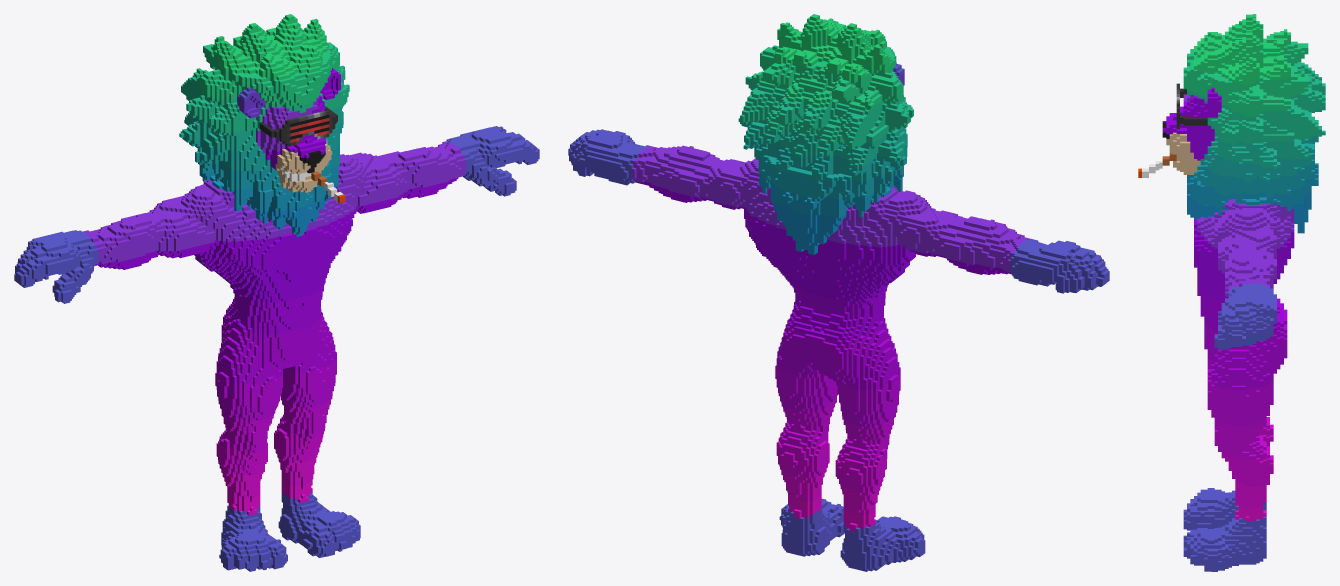
The model's file is 1012-C6llnSYz.glb.
3 views of the same model, side by side, from view 1: azimuth 30°, elevation 25°; view 2: azimuth 150°, elevation 25°; view 3: azimuth 270°, elevation 25° (orthographic). The views are drawn at different scales.
Parts seen in each view (by area): view 1: cigarette; view 2: cigarette; view 3: cigarette.
Boxes of the visible parts, left/top/right/bottom form: cigarette: left=14, top=14, right=539, bottom=571; cigarette: left=568, top=14, right=1109, bottom=571; cigarette: left=1138, top=14, right=1325, bottom=571.
Bounding box in the file's own units: 17.2 × 16.5 × 5.4.
Materials: 4 (4 with a texture image).
